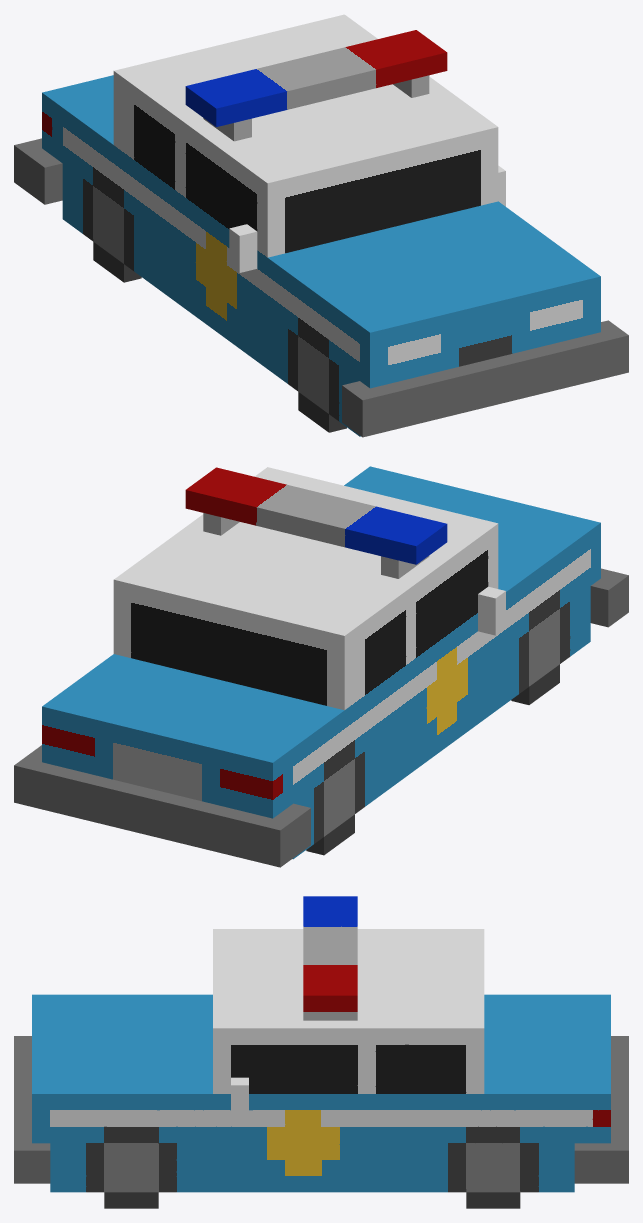
File: veh_police1.dae
3 views of the same model, one above another, from view 1: azimuth 30°, elevation 25°; view 2: azimuth 150°, elevation 25°; view 3: azimuth 270°, elevation 25° (orthographic). The views are drawn at different scales.
Parts seen in each view (by area): view 1: veh_police1; view 2: veh_police1; view 3: veh_police1.
Part boxes in pixels (<box>): veh_police1: <box>14,14,628,437</box>; veh_police1: <box>14,466,628,867</box>; veh_police1: <box>14,896,628,1208</box>.
Size of the model in its own units: 1.5 by 3.4 by 1.3.
Materials: 1 (1 with a texture image).
